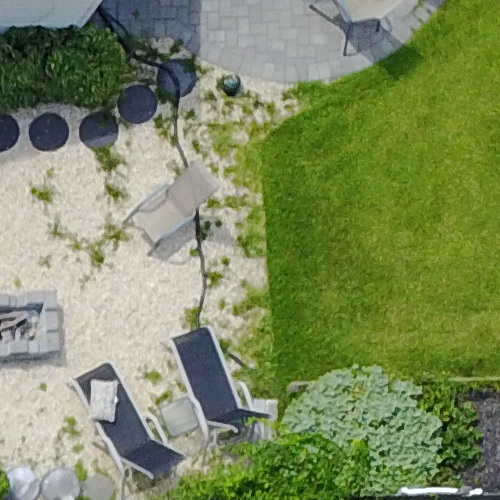container: (217, 72, 249, 104)
